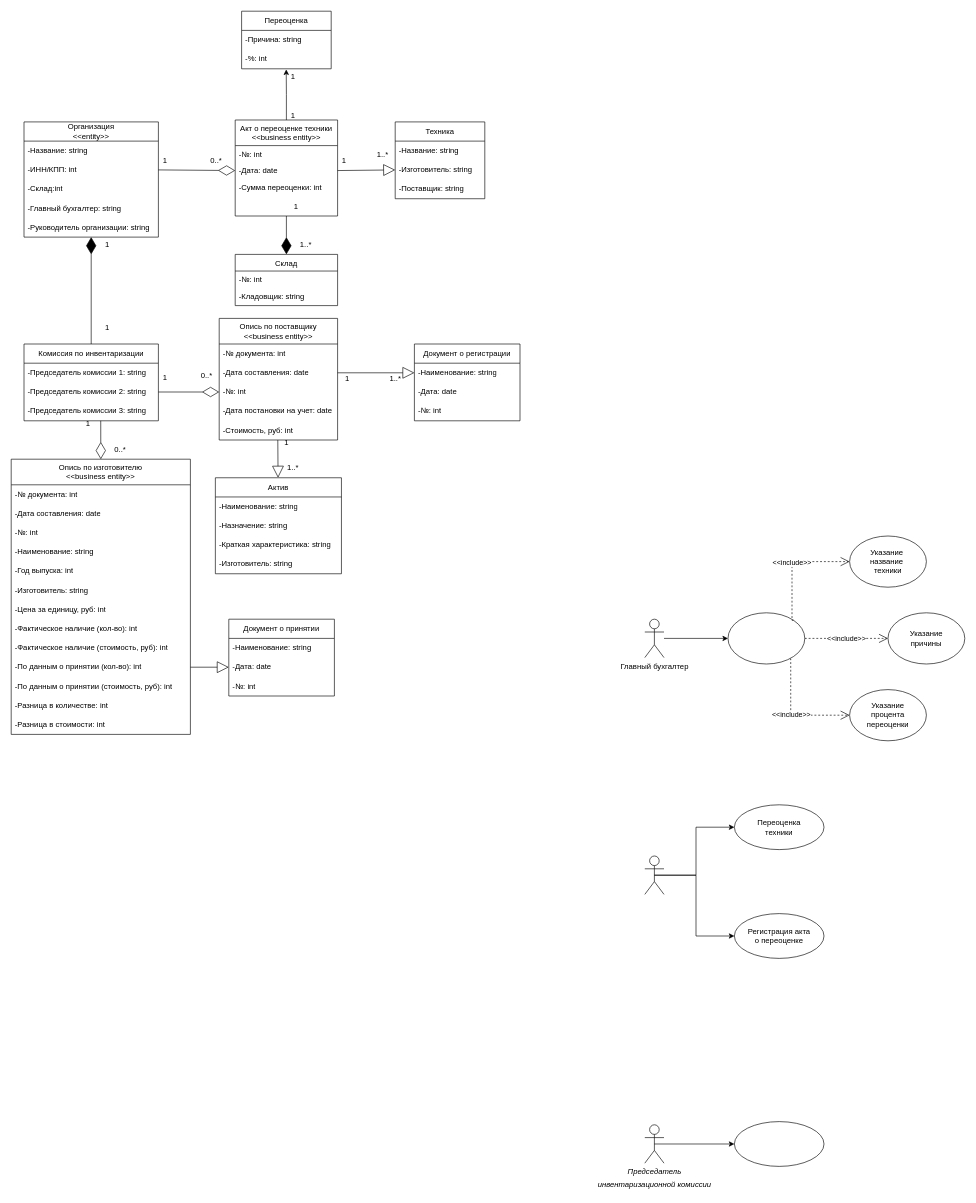
Some shapes in this 976 by 1203 pixel diagram are drawn without their labels. Here are the shapes that lost their labels. From the top down, the centre of each, then its label:
point 766,638: Регистрация распоряжения о переоценке
point 654,874: Кладовщик
point 779,1143: Регистрация описи
